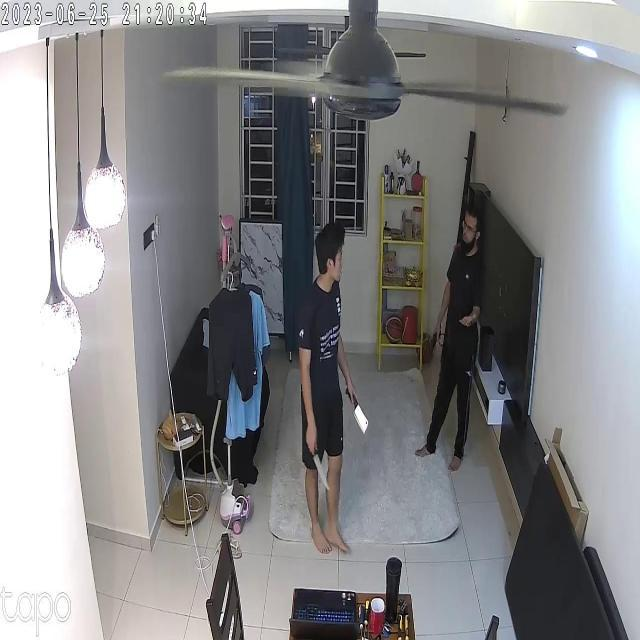Knife: (302, 440, 339, 510), (343, 382, 382, 441)
